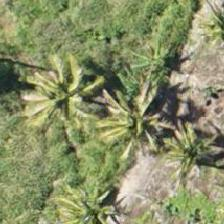coconut_tree: (89, 65, 179, 155), (38, 49, 128, 139), (149, 94, 223, 184), (35, 169, 125, 223)
